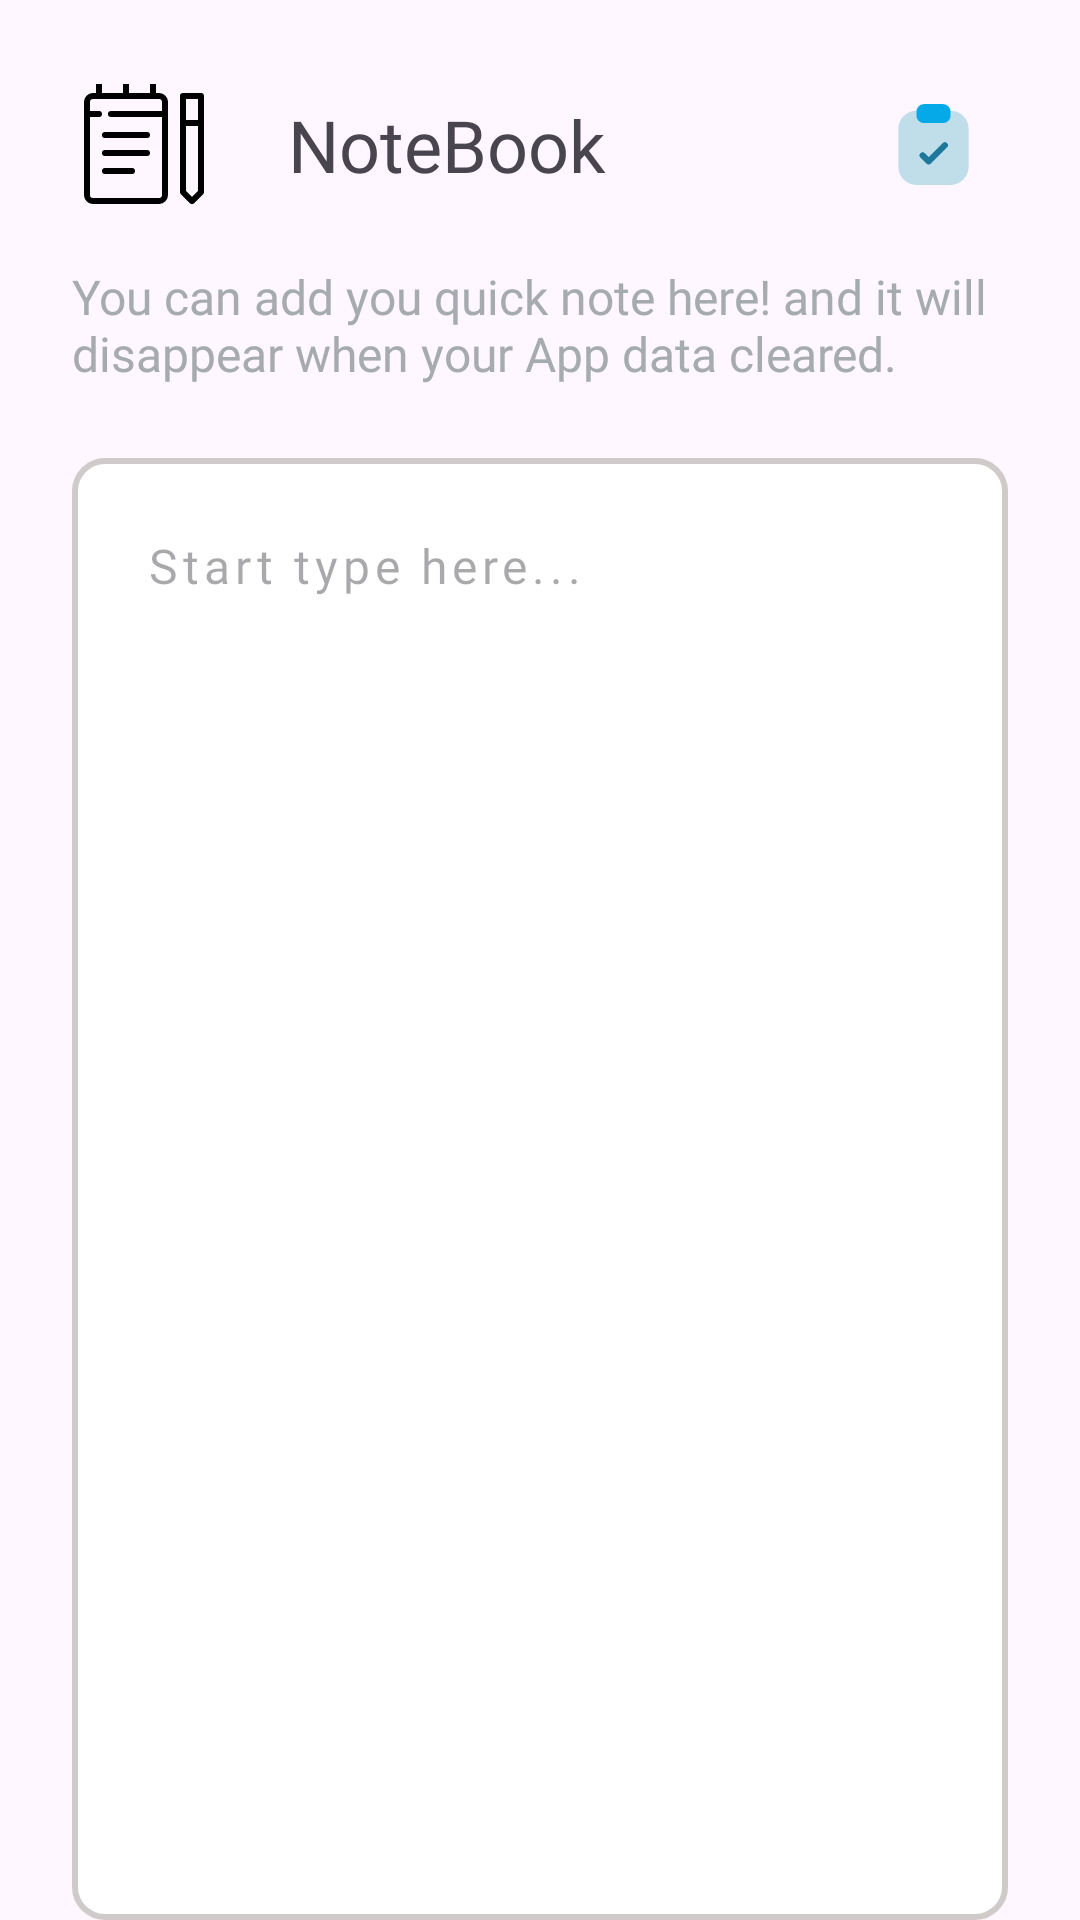

Locate icon controls on the screen. Image size 1080w x 1920h, boxes as Rect(x1, y1, x2, y2).
clipboardtick: Rect(898, 104, 969, 185)
